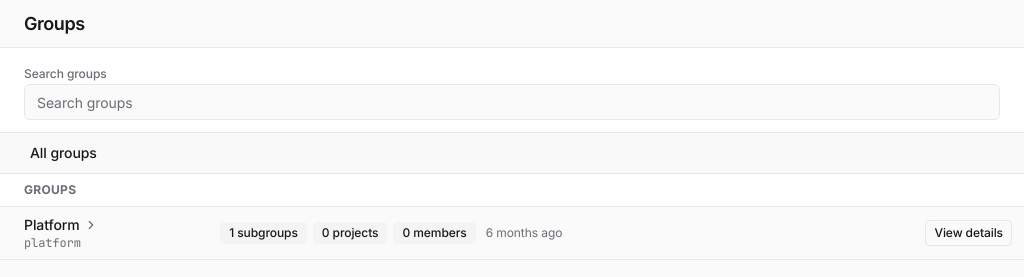
Test: GroupListPage › drilling into a row re-queries by parent_id and extends the trail
Expected: the number of rows with test id "groups-row" is 1, [0,206,1023,260]
Click the button with test id "groups-row-name" at (61, 233), box [24,215,98,251]
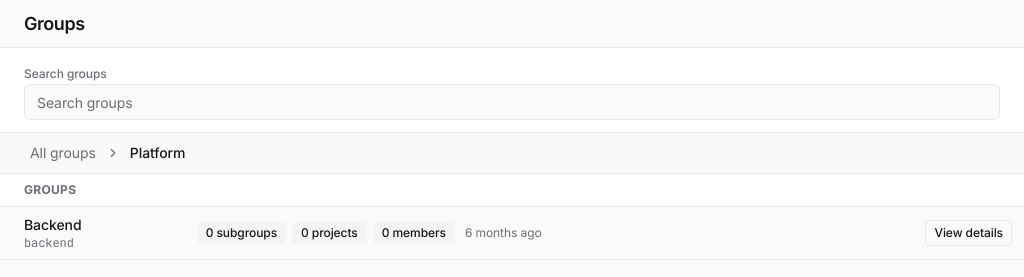
Click the button with test id "groups-drilldown-breadcrumb-root" at (63, 153), box [24,141,102,165]
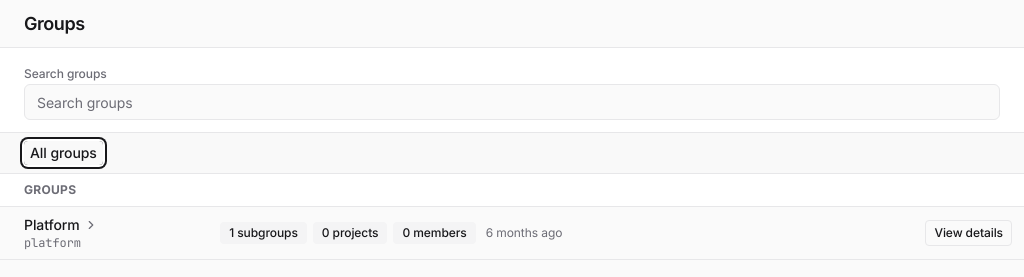
Expected: the button with test id "groups-drilldown-breadcrumb-segment" is gone
